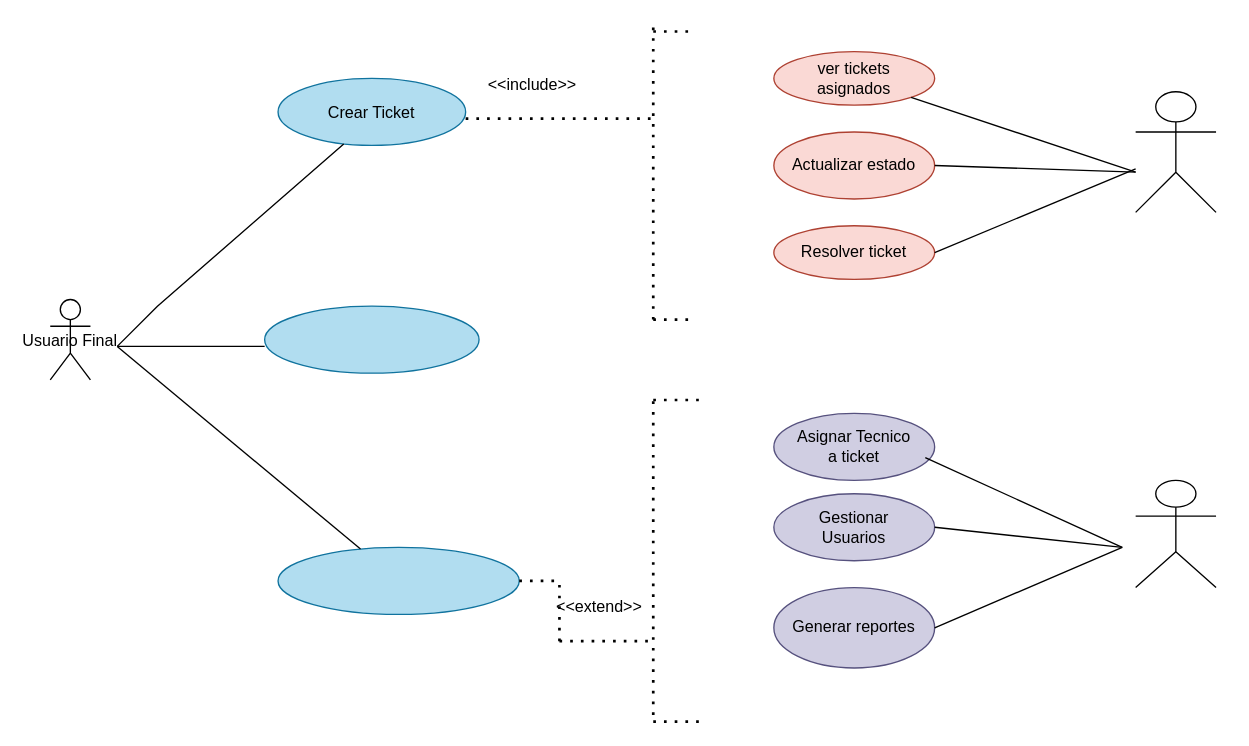
Some shapes in this 1249 by 746 pixel diagram are drawn without their labels. The shapes that lost their labels are listed below. From the top down, each one's box as (x1, y1, x2, y2) in pixels, then its label:
(1134, 90, 1216, 212): Técnico
(263, 305, 479, 373): Consultar Ticket
(1134, 479, 1216, 588): Administrador
(277, 546, 519, 614): Recibir notificaciones
